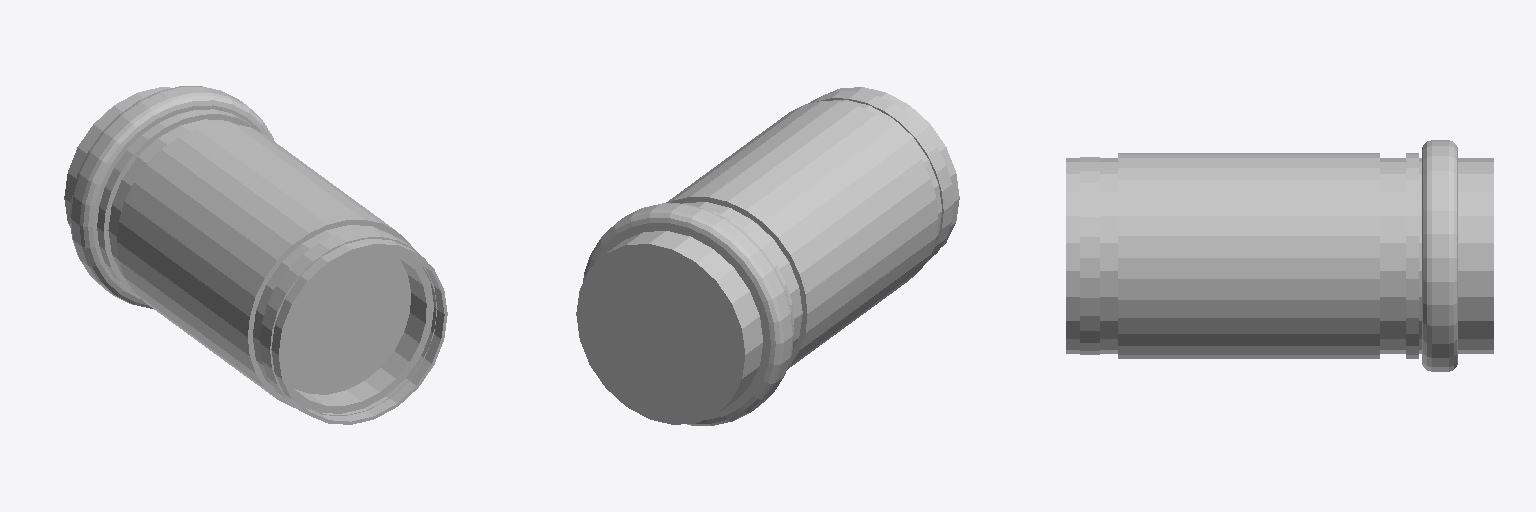
The model's file is camera_lens.obj.
3 renders of one model, left to right at view 1: azimuth 30°, elevation 25°; view 2: azimuth 150°, elevation 25°; view 3: azimuth 270°, elevation 25°, orthographic.
Visible parts, largest first — view 1: Objective; view 2: Objective; view 3: Objective.
Boxes of the visible parts, <box> form: Objective: <box>64,86,447,424</box>; Objective: <box>576,87,959,425</box>; Objective: <box>1066,140,1493,371</box>.
Size of the model in its own units: 3.3 by 3.29 by 6.09.